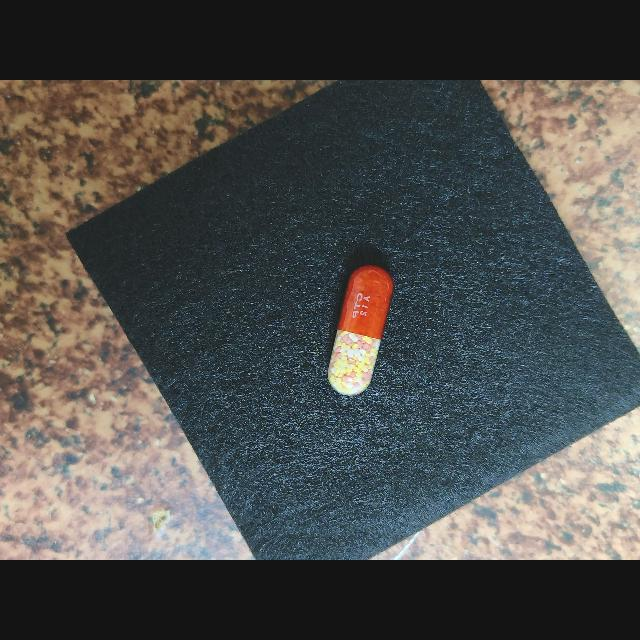Intact Capsule: (328, 265, 393, 395)
